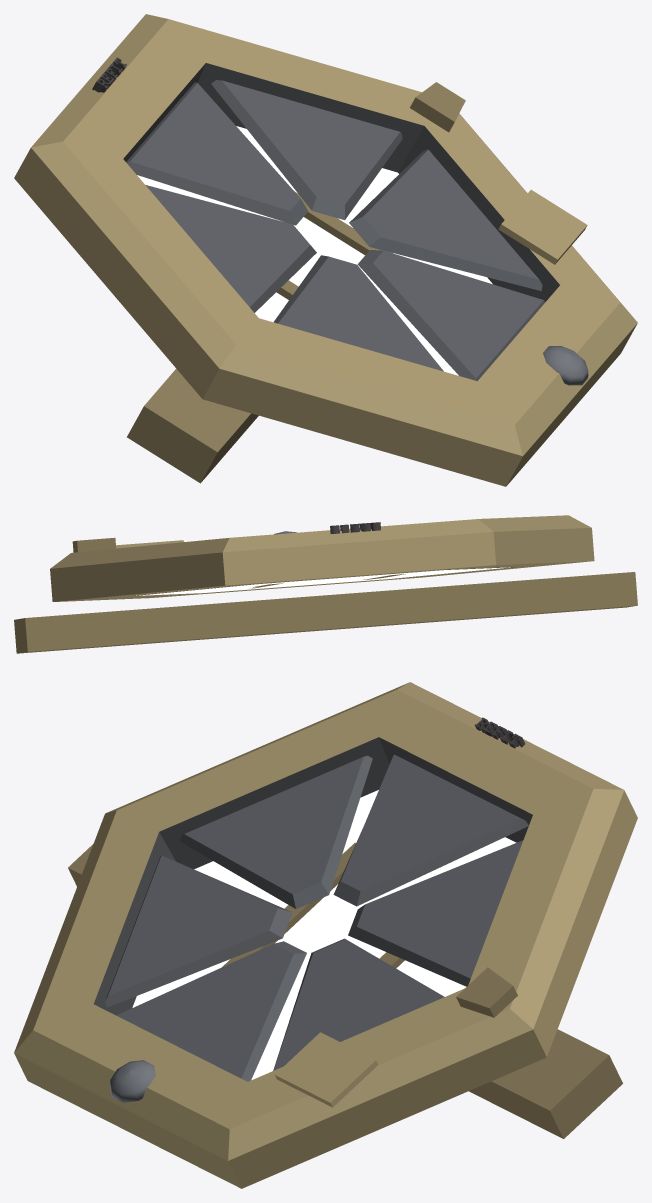
Rendered from refit.glb.
3 views of the same model, one above another, from view 1: azimuth 30°, elevation 25°; view 2: azimuth 150°, elevation 25°; view 3: azimuth 270°, elevation 25° (orthographic). The views are drawn at different scales.
Parts seen in each view (by area): view 1: fmm_refit_frame, fmm_refit_leaf_0, fmm_refit_leaf_5, fmm_refit_leaf_1, fmm_refit_leaf_4, fmm_refit_leaf_2, fmm_refit_leaf_3, fmm_refit_throat, fmm_refit_srail, fmm_refit_glow, fmm_refit_tally, fmm_refit_detent (+2 smaller); view 2: fmm_refit_frame, fmm_refit_srail, fmm_refit_glow, fmm_refit_detent, fmm_refit_label, fmm_refit_tally; view 3: fmm_refit_frame, fmm_refit_leaf_2, fmm_refit_leaf_3, fmm_refit_leaf_1, fmm_refit_leaf_4, fmm_refit_leaf_0, fmm_refit_leaf_5, fmm_refit_glow, fmm_refit_srail, fmm_refit_throat, fmm_refit_tally, fmm_refit_detent (+2 smaller).
Boxes of the visible parts, <box> form: fmm_refit_frame: <box>14,14,637,486</box>; fmm_refit_leaf_0: <box>211,80,402,220</box>; fmm_refit_leaf_5: <box>349,149,542,291</box>; fmm_refit_leaf_1: <box>126,82,308,225</box>; fmm_refit_leaf_4: <box>357,250,545,381</box>; fmm_refit_leaf_2: <box>145,185,316,312</box>; fmm_refit_leaf_3: <box>274,255,443,371</box>; fmm_refit_throat: <box>123,63,559,301</box>; fmm_refit_srail: <box>127,368,258,483</box>; fmm_refit_glow: <box>137,126,492,375</box>; fmm_refit_tally: <box>498,189,587,264</box>; fmm_refit_detent: <box>410,82,465,132</box>; fmm_refit_frame: <box>50,515,594,601</box>; fmm_refit_srail: <box>14,572,637,653</box>; fmm_refit_glow: <box>136,567,510,595</box>; fmm_refit_detent: <box>72,537,116,552</box>; fmm_refit_label: <box>330,522,380,533</box>; fmm_refit_tally: <box>116,540,183,548</box>; fmm_refit_frame: <box>14,682,637,1188</box>; fmm_refit_leaf_2: <box>180,755,372,908</box>; fmm_refit_leaf_3: <box>105,855,292,1007</box>; fmm_refit_leaf_1: <box>333,754,528,906</box>; fmm_refit_leaf_4: <box>116,941,306,1081</box>; fmm_refit_leaf_0: <box>348,840,523,986</box>; fmm_refit_leaf_5: <box>273,938,444,1070</box>; fmm_refit_glow: <box>132,790,516,1080</box>; fmm_refit_srail: <box>68,844,622,1138</box>; fmm_refit_throat: <box>94,737,532,1015</box>; fmm_refit_tally: <box>275,1032,377,1107</box>; fmm_refit_detent: <box>456,967,517,1017</box>.
Bounding box in the file's own units: 0.032 × 0.0154 × 0.0314.
